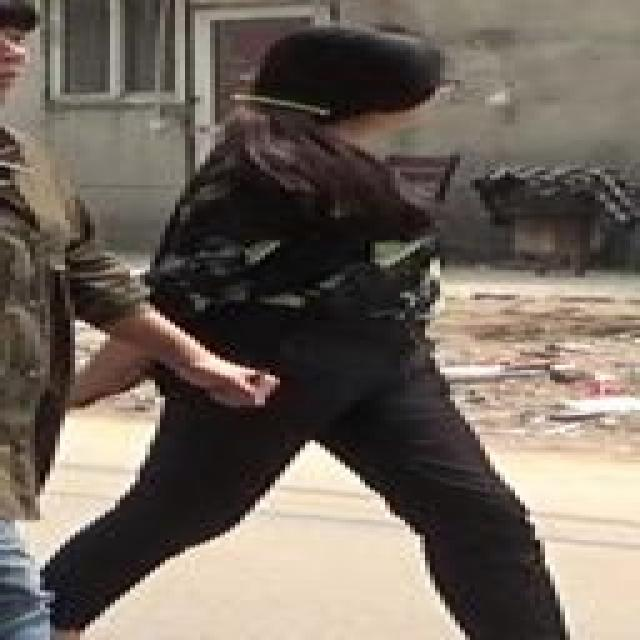adult: (134, 24, 589, 640), (0, 6, 249, 640)
